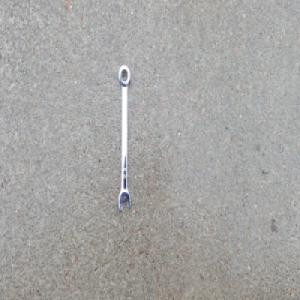Wrench: (118, 62, 131, 211)
